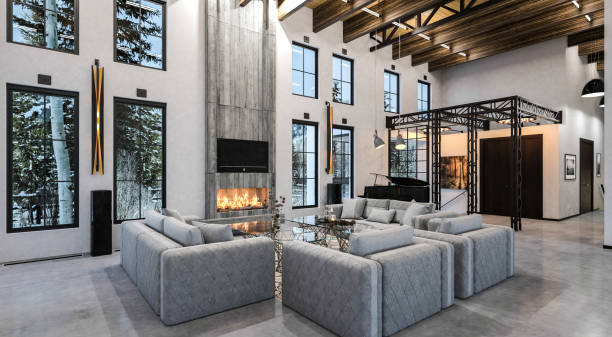TV: (214, 135, 269, 175)
sofa: (280, 196, 517, 337), (117, 206, 276, 328)
table: (295, 207, 359, 243)
wall art: (436, 153, 469, 191), (562, 152, 578, 180), (594, 152, 603, 178)
